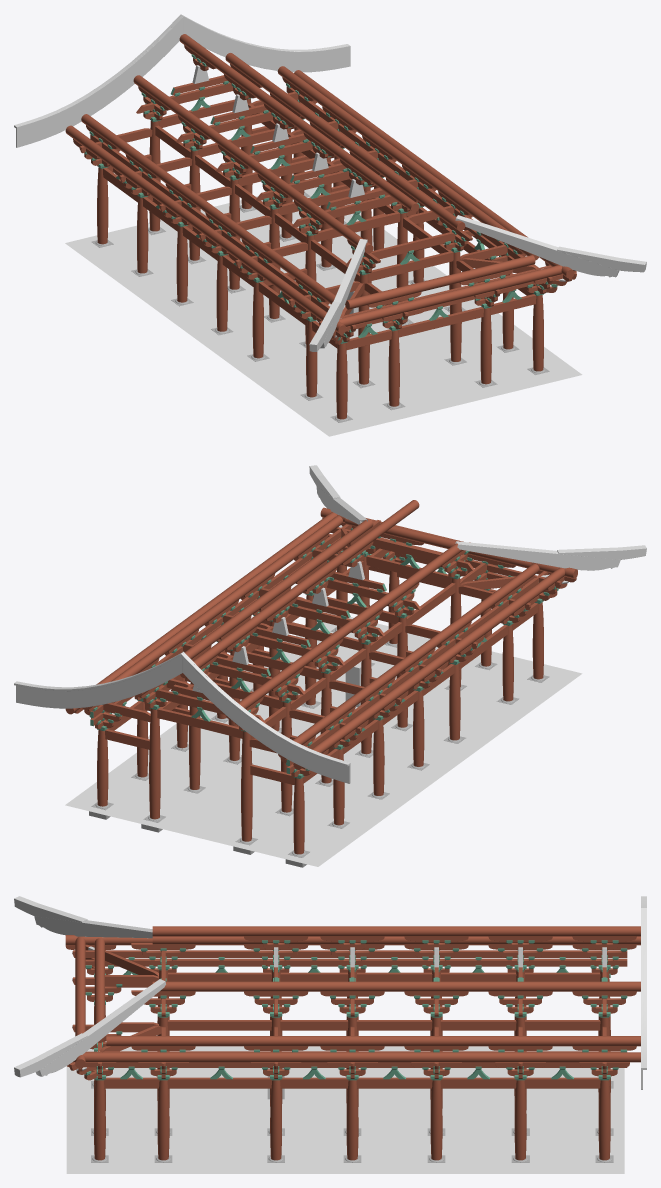
The model's file is 121323_Building_D_1.fbx.
The picture shows the model from 3 angles, top to bottom: view 1: azimuth 30°, elevation 25°; view 2: azimuth 150°, elevation 25°; view 3: azimuth 270°, elevation 25°; orthographic projection. The views are drawn at different scales.
Parts seen in each view (by area): view 1: Plane.001, Eave_Gable, Purlin.004, Purlin.005, Purlin.002, Beam_Bracket.003, Beam_Large.005, Eave_Corner_Large_MediumHall|Eave_Corner.001|Dupli|, Purlin.006, Purlin.001, Purlin.003, Beam_Large.001 (+23 smaller); view 2: Plane.001, Eave_Gable, Purlin.004, Purlin.002, Purlin.005, Beam_Bracket.003, Eave_Corner_Large_MediumHall.001|Eave_Corner.001|Dupli|, Purlin.006, Beam_Large.005, Beam_Large.002, BuildingD_CrossSection.004|Column_Drum_5|Dupli|0.1.5, BuildingD_CrossSection.004|Column_Drum_5|Dupli|0.1.6 (+25 smaller); view 3: Plane.001, Beam_Large.005, Beam_Bracket.003, Purlin.005, Purlin.002, Purlin.004, Purlin.006, Beam_Large.002, Eave_Corner_Large_MediumHall|Eave_Corner.001|Dupli|, Eave_Corner_Large_MediumHall.001|Eave_Corner.001|Dupli|, Purlin.001, Eave_Gable (+10 smaller).
Boxes of the visible parts, bbox=[...] form: Plane.001: bbox=[65, 187, 582, 436]; Eave_Gable: bbox=[14, 14, 350, 147]; Purlin.004: bbox=[81, 66, 538, 304]; Purlin.005: bbox=[133, 53, 465, 253]; Purlin.002: bbox=[65, 70, 574, 334]; Beam_Bracket.003: bbox=[90, 86, 539, 316]; Beam_Large.005: bbox=[155, 103, 451, 281]; Eave_Corner_Large_MediumHall|Eave_Corner.001|Dupli|: bbox=[455, 215, 646, 277]; Purlin.006: bbox=[179, 34, 419, 212]; Purlin.001: bbox=[339, 265, 575, 326]; Purlin.003: bbox=[345, 255, 535, 309]; Beam_Large.001: bbox=[346, 294, 536, 349]; Plane.001: bbox=[65, 613, 582, 866]; Eave_Gable: bbox=[14, 651, 350, 783]; Purlin.004: bbox=[82, 516, 539, 758]; Purlin.002: bbox=[65, 512, 564, 769]; Purlin.005: bbox=[135, 518, 462, 719]; Beam_Bracket.003: bbox=[90, 528, 539, 773]; Eave_Corner_Large_MediumHall.001|Eave_Corner.001|Dupli|: bbox=[455, 541, 646, 570]; Purlin.006: bbox=[180, 500, 419, 678]; Beam_Large.005: bbox=[160, 561, 455, 738]; Beam_Large.002: bbox=[107, 594, 535, 783]; BuildingD_CrossSection.004|Column_Drum_5|Dupli|0.1.5: bbox=[149, 709, 160, 819]; BuildingD_CrossSection.004|Column_Drum_5|Dupli|0.1.6: bbox=[241, 731, 252, 841]; Plane.001: bbox=[66, 1046, 624, 1173]; Beam_Large.005: bbox=[167, 972, 600, 1030]; Beam_Bracket.003: bbox=[100, 950, 627, 1067]; Purlin.005: bbox=[152, 936, 640, 991]; Purlin.002: bbox=[65, 935, 640, 1062]; Purlin.004: bbox=[106, 937, 640, 1046]; Purlin.006: bbox=[152, 926, 640, 936]; Beam_Large.002: bbox=[104, 985, 600, 1088]; Eave_Corner_Large_MediumHall|Eave_Corner.001|Dupli|: bbox=[14, 979, 165, 1077]; Eave_Corner_Large_MediumHall.001|Eave_Corner.001|Dupli|: bbox=[14, 896, 152, 938]; Purlin.001: bbox=[75, 936, 85, 1068]; Eave_Gable: bbox=[641, 896, 646, 1089].
Bounding box in the file's own units: 1614 × 909 × 2485.
